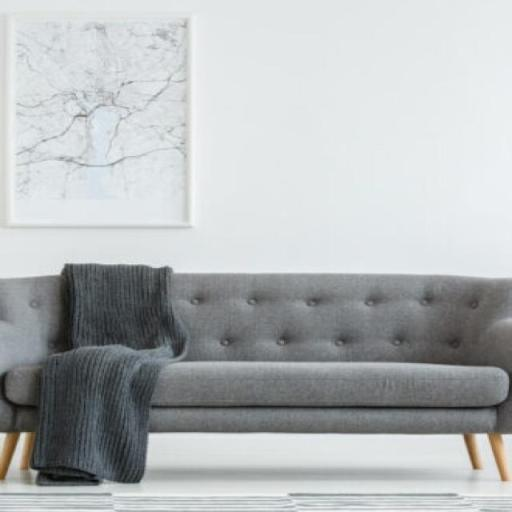sofa: (2, 246, 512, 482)
